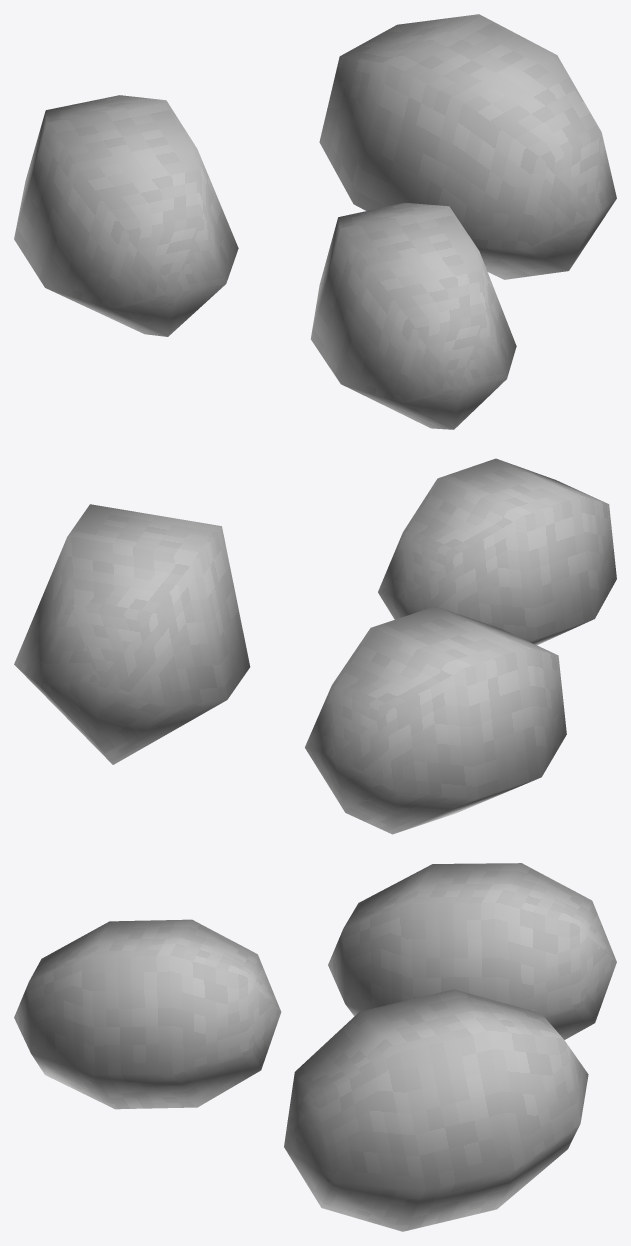
Rendered from plums.obj.
3 renders of one model, top to bottom at view 1: azimuth 30°, elevation 25°; view 2: azimuth 150°, elevation 25°; view 3: azimuth 270°, elevation 25°, orthographic. The views are drawn at different scales.
Parts seen in each view (by area): view 1: Duplicate01, Sphere02, Duplicate02; view 2: Sphere02, Duplicate01, Duplicate02; view 3: Duplicate01, Duplicate02, Sphere02.
Part boxes in pixels (x1,y1,x2,y2): Duplicate01: (319, 14, 616, 279); Sphere02: (14, 95, 238, 336); Duplicate02: (311, 202, 516, 429); Sphere02: (305, 606, 566, 834); Duplicate01: (14, 504, 250, 764); Duplicate02: (378, 458, 616, 645); Duplicate01: (284, 989, 588, 1231); Duplicate02: (14, 919, 281, 1109); Sphere02: (328, 863, 616, 1039).
Size of the model in its own units: 12.71 by 5.25 by 13.66.
